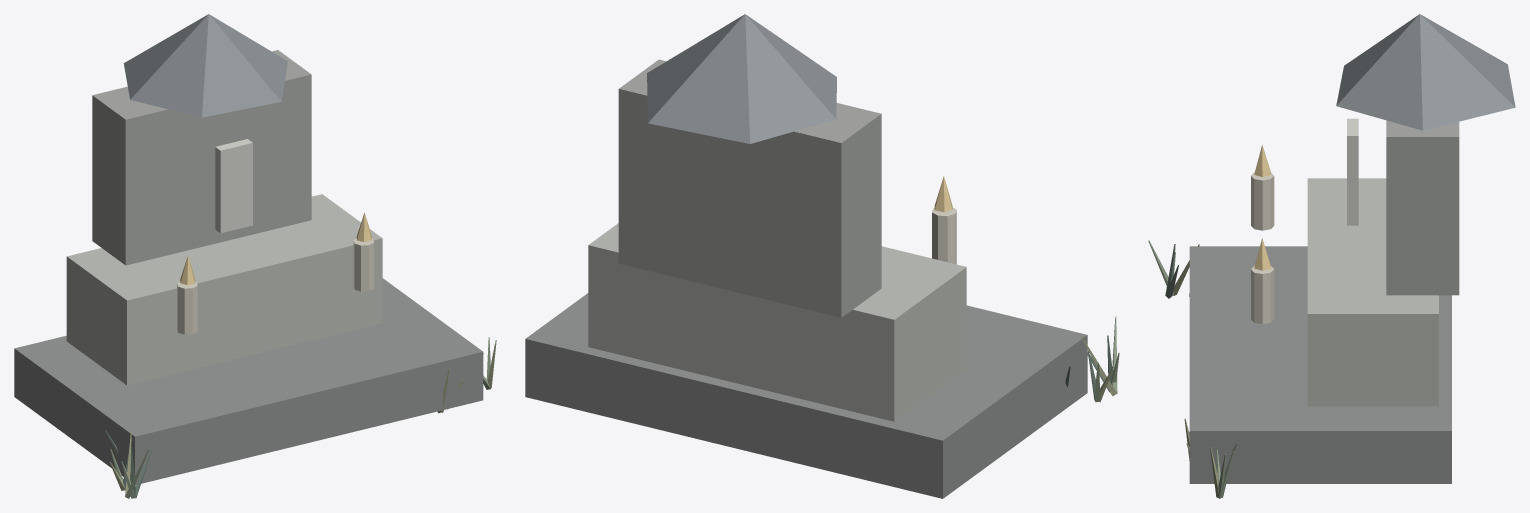
Rendered from forsaken_road_shrine.glb.
3 renders of one model, left to right at view 1: azimuth 30°, elevation 25°; view 2: azimuth 150°, elevation 25°; view 3: azimuth 270°, elevation 25°, orthographic. The views are drawn at different scales.
Visible parts, largest first — view 1: material_00, material_01, material_02, material_03, material_04, material_05, material_08, material_09, material_06; view 2: material_00, material_02, material_01, material_03, material_05; view 3: material_00, material_01, material_03, material_02, material_05, material_04, material_08, material_06, material_09.
Part boxes in pixels (x1,y1,x2,y2): material_00: [14, 278, 483, 484]; material_01: [66, 194, 382, 385]; material_02: [92, 50, 311, 265]; material_03: [123, 14, 287, 117]; material_04: [215, 139, 252, 233]; material_05: [177, 238, 374, 334]; material_08: [110, 337, 496, 498]; material_09: [109, 343, 495, 495]; material_06: [180, 212, 371, 284]; material_00: [525, 293, 1087, 498]; material_02: [618, 59, 881, 317]; material_01: [588, 223, 966, 421]; material_03: [647, 14, 836, 143]; material_05: [932, 207, 956, 264]; material_00: [1189, 246, 1451, 483]; material_01: [1307, 178, 1438, 406]; material_03: [1336, 14, 1515, 130]; material_02: [1386, 120, 1459, 295]; material_05: [1251, 172, 1274, 324]; material_04: [1347, 118, 1358, 225]; material_08: [1148, 240, 1237, 498]; material_06: [1254, 145, 1271, 270]; material_09: [1173, 244, 1219, 498].
Bounding box in the file's own units: 1.73 × 1.46 × 1.26.
